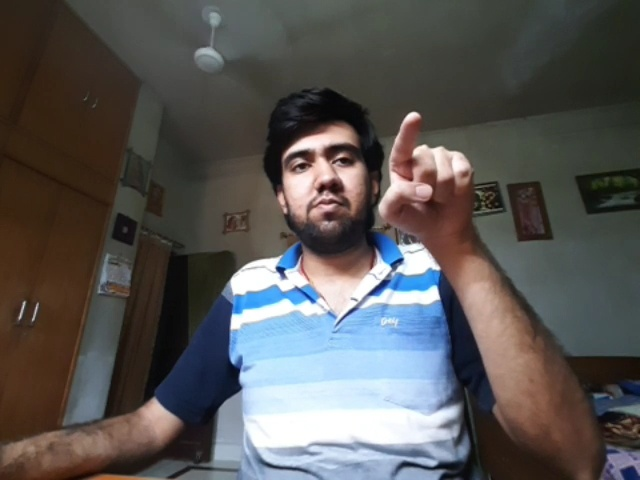You: (380, 112, 474, 234)
